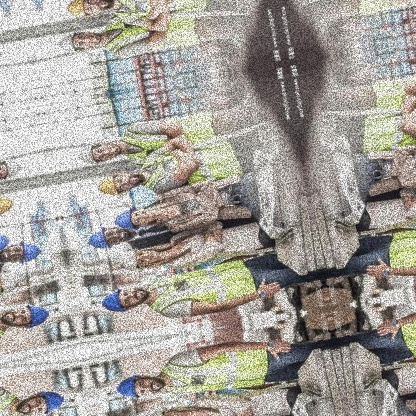blue: (96, 286, 127, 316), (111, 203, 140, 234), (83, 223, 111, 253)
vest: (132, 131, 247, 200), (143, 256, 261, 319), (113, 107, 222, 169)
white: (113, 246, 144, 275), (75, 140, 101, 168)
yellow: (93, 169, 127, 202)
